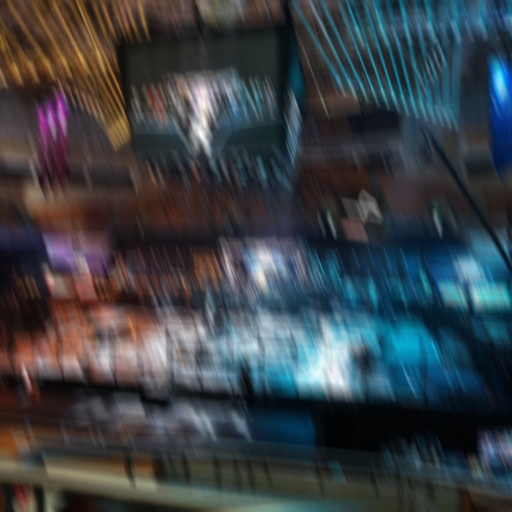red: (332, 190, 388, 237)
